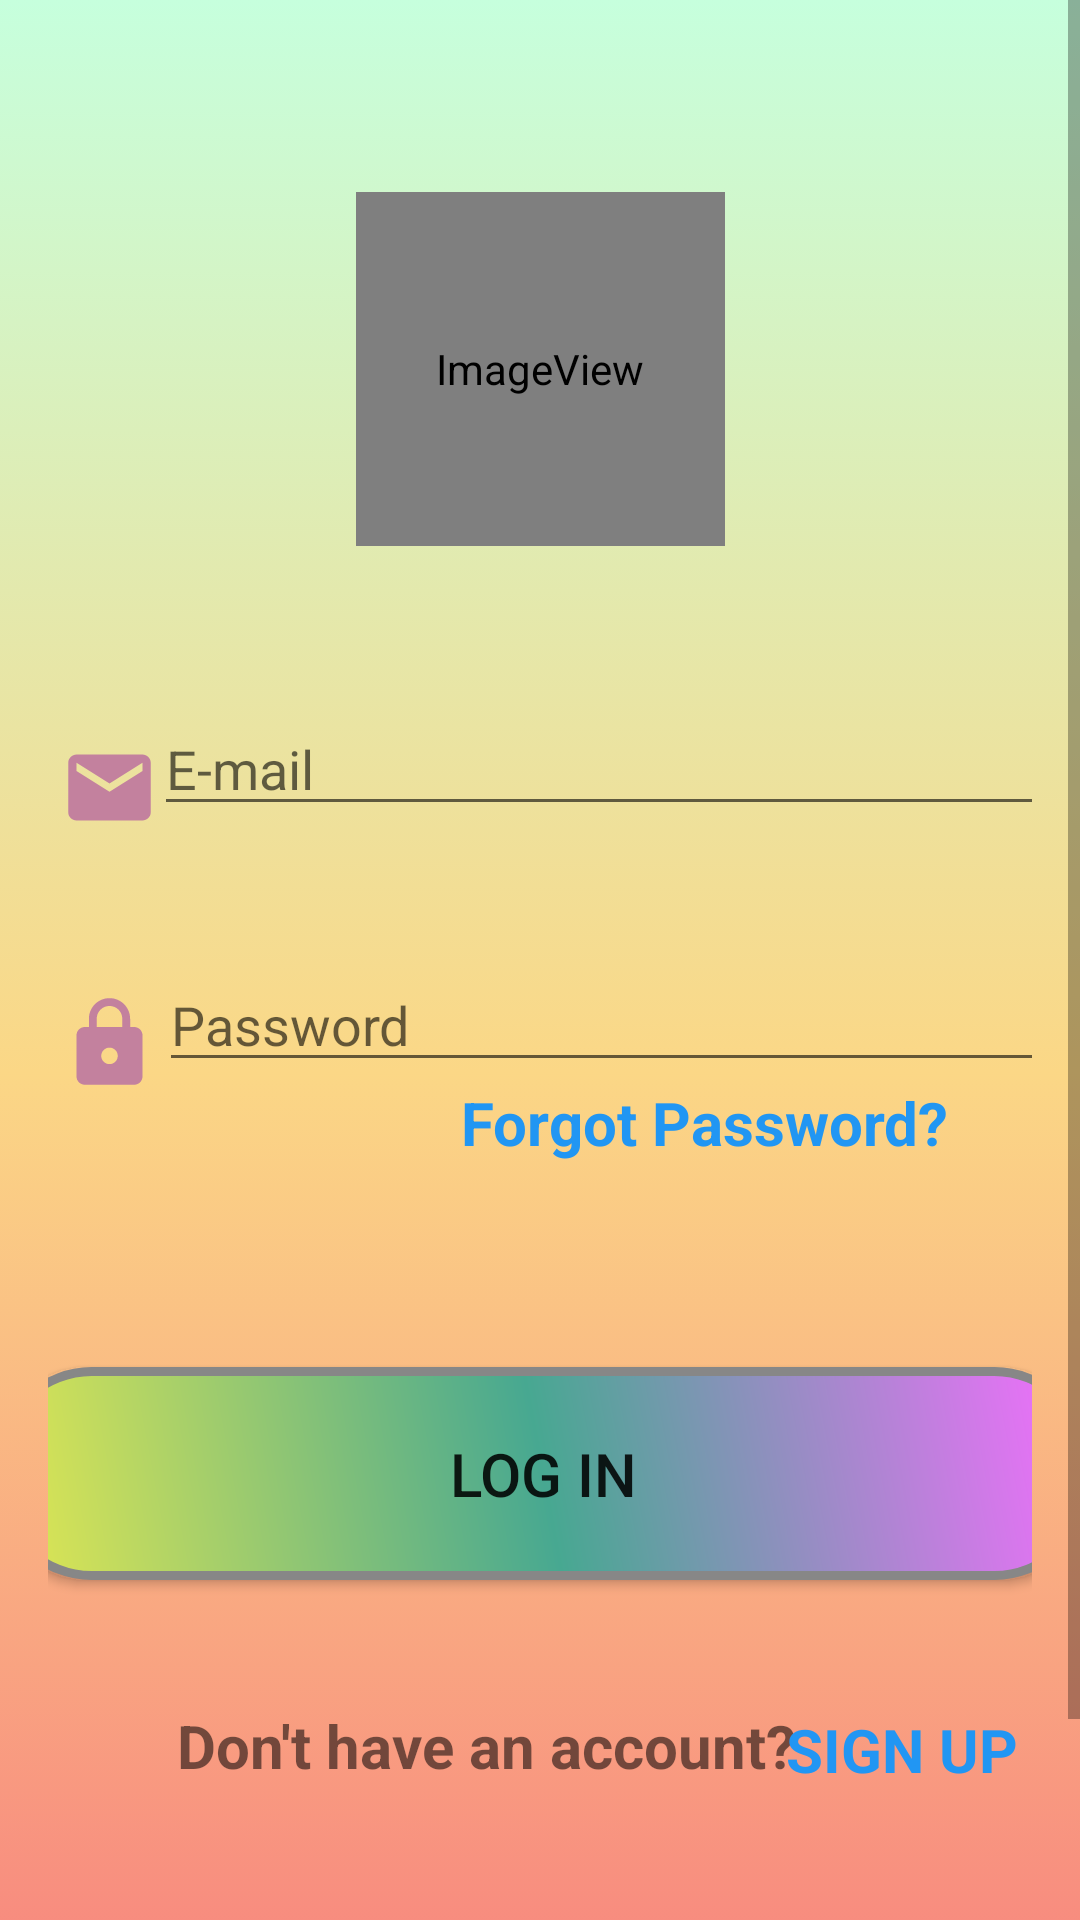

Icons on this 1080px x 1920px Android screen, each with its box as (x1, y1, x2, y2):
lock: (76, 998, 143, 1085)
